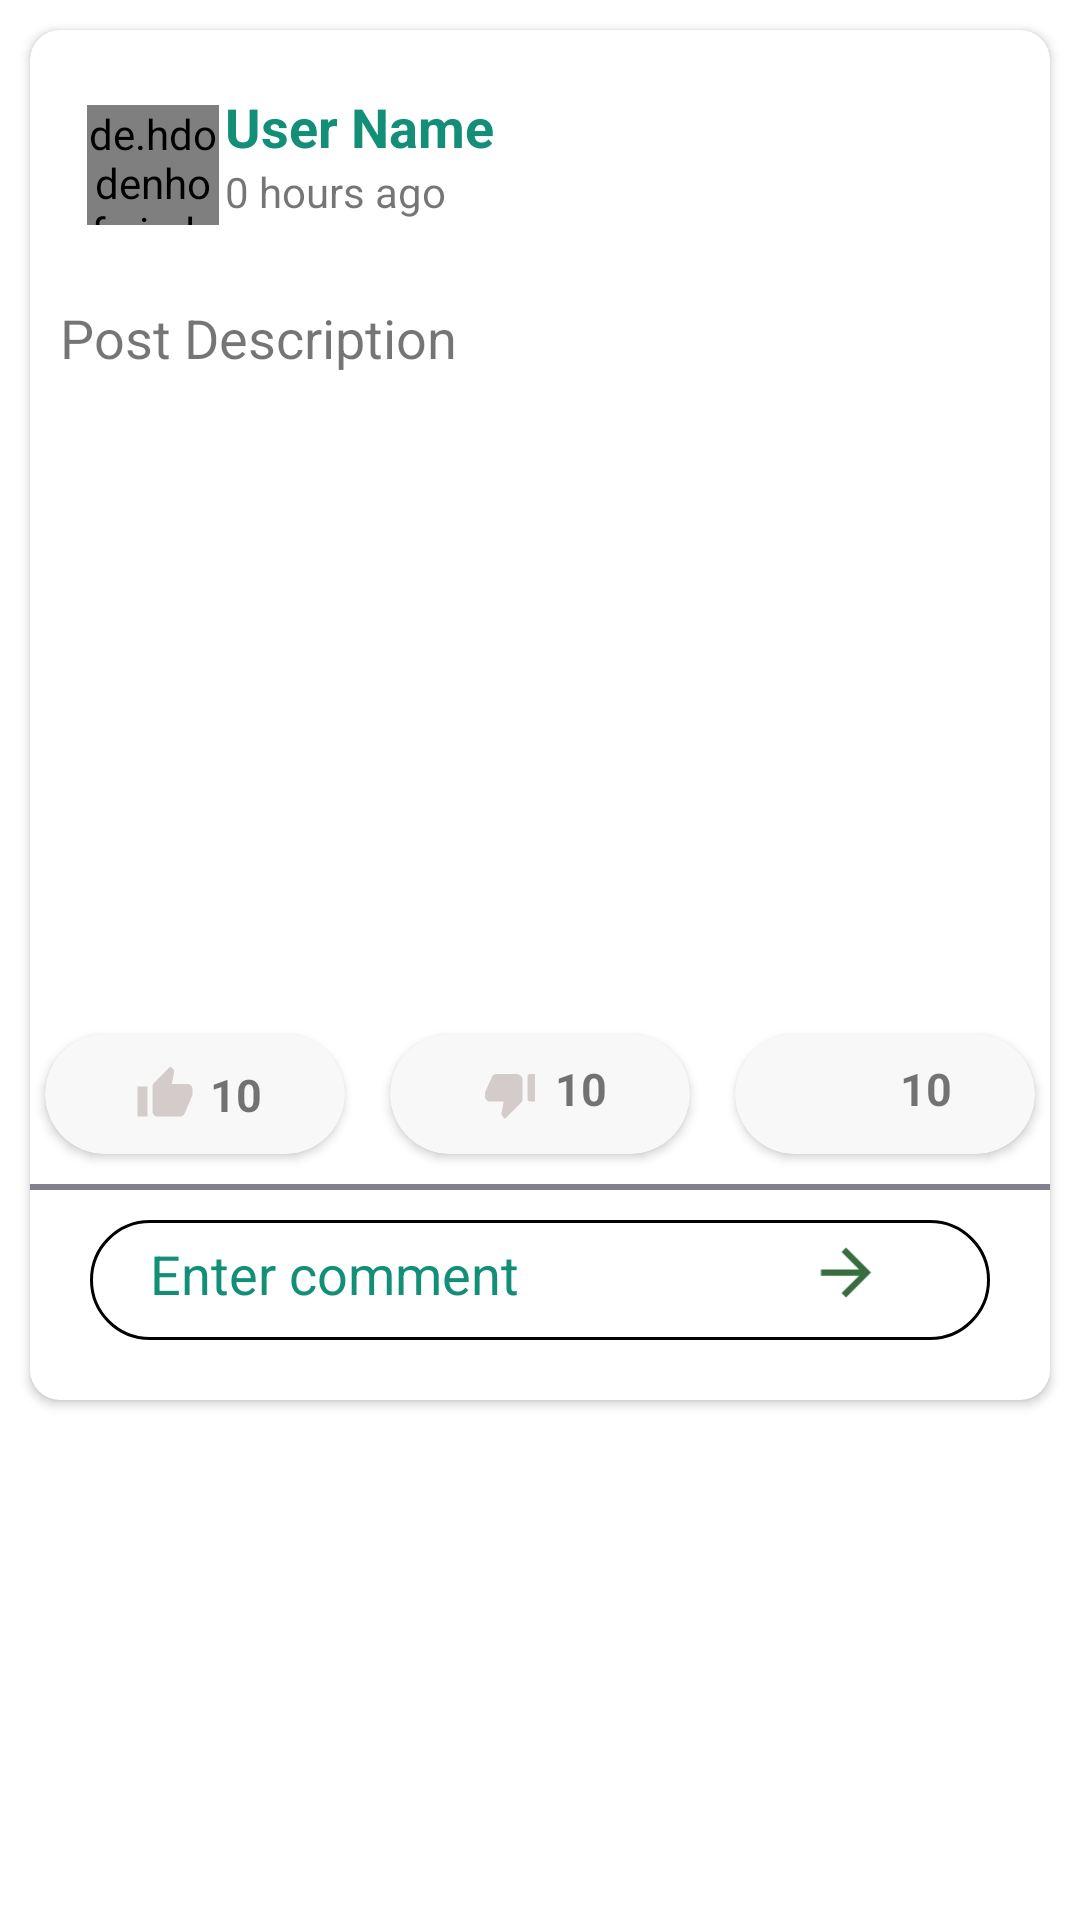

Screen size 1080 x 1920. Icon name, then its center in pixels as (x=x, y=y):
arrow forward: (x=846, y=1272)
thumb down: (x=510, y=1096)
thumb up: (x=165, y=1091)
